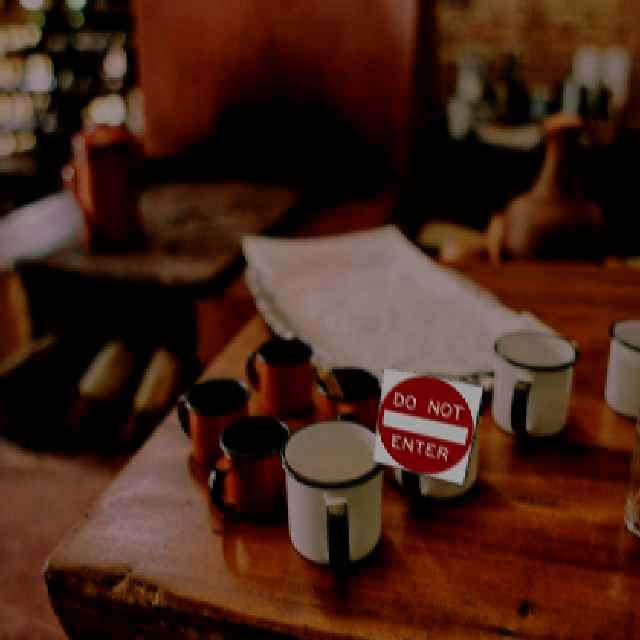DO_NOT_ENTER: (371, 365, 484, 485)
